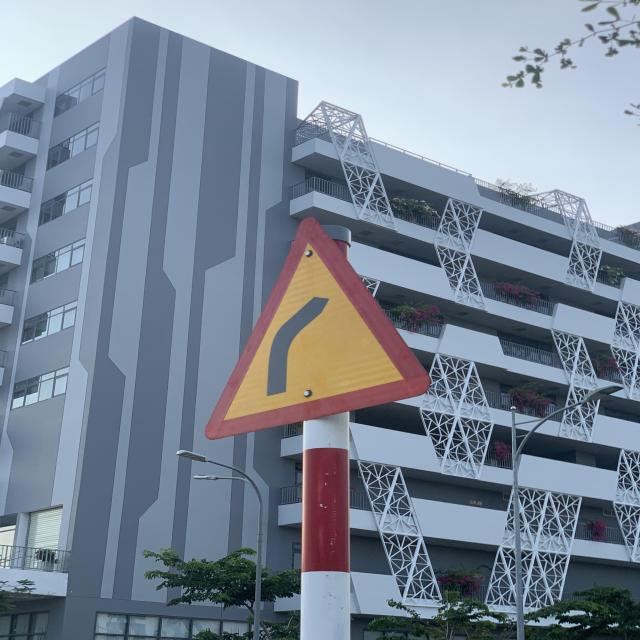Duong_Nguoi_Di_Bo_Cat_Ngang: (210, 214, 430, 440)
